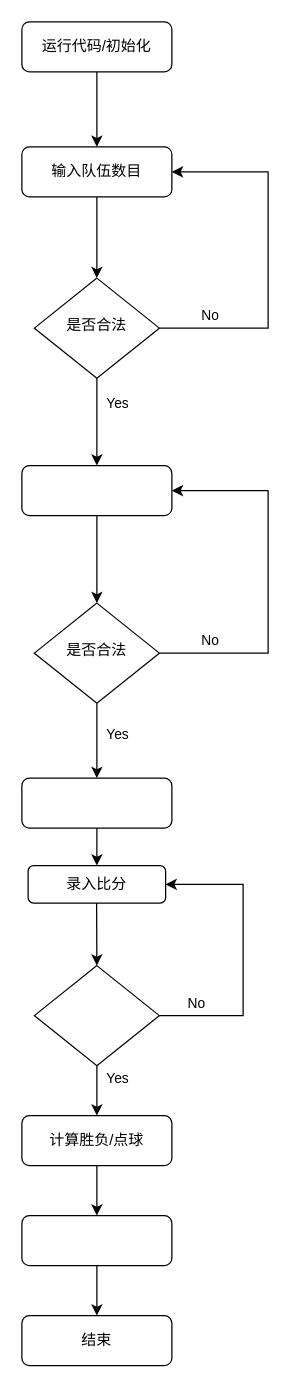
This 300x1388 diagram has some shape labels left out. The centre of each missing label's shape, as x and y in pixels:
"初始化GUI/自动分组" belongs at [96,802].
"是否有比分录入" belongs at [96,1015].
"显示" belongs at [96,1240].
"输入队伍名称" belongs at [96,490].
